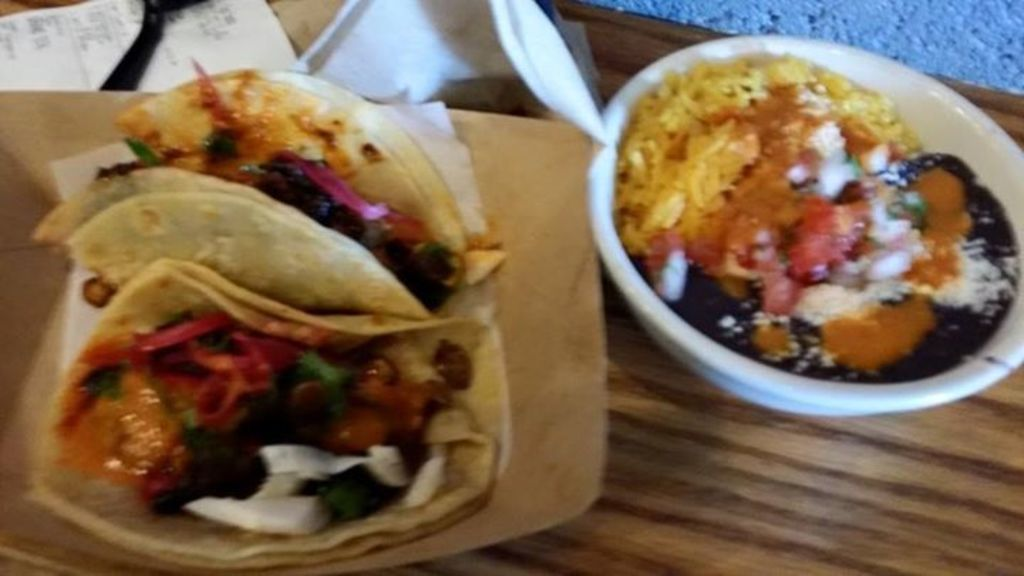taco: (26, 257, 511, 572), (41, 100, 466, 321)
